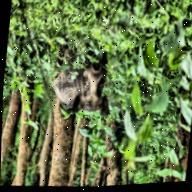boar: (45, 35, 118, 133)
